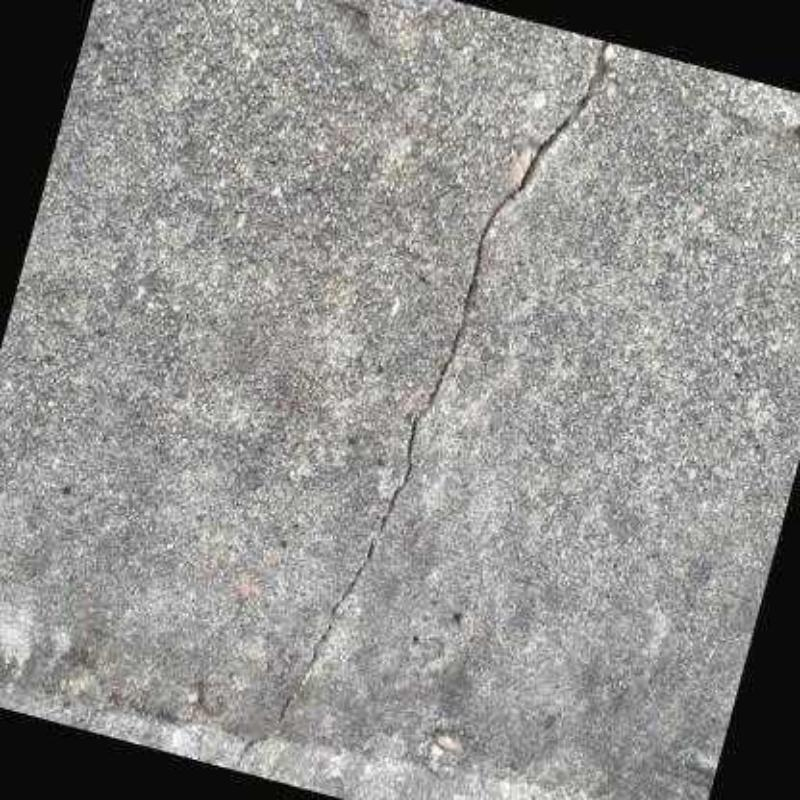crack: (229, 41, 610, 769)
